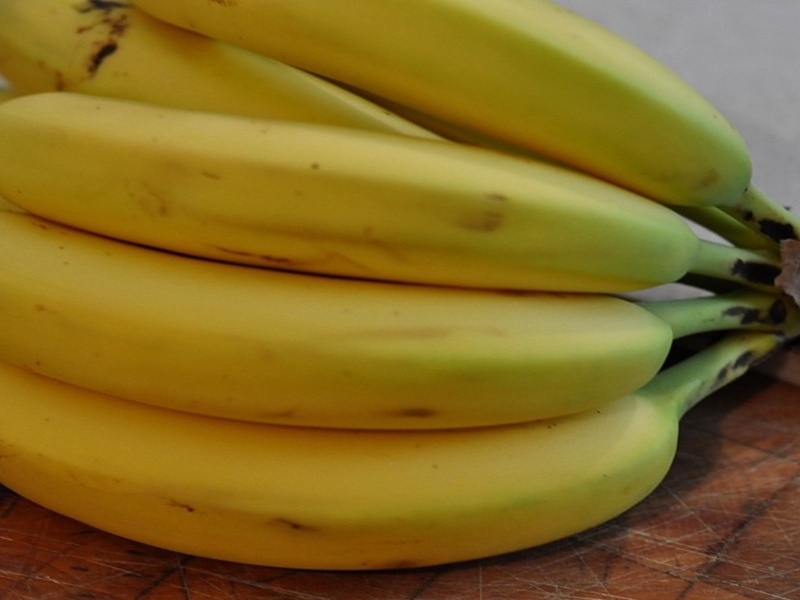banana: (3, 3, 795, 572)
